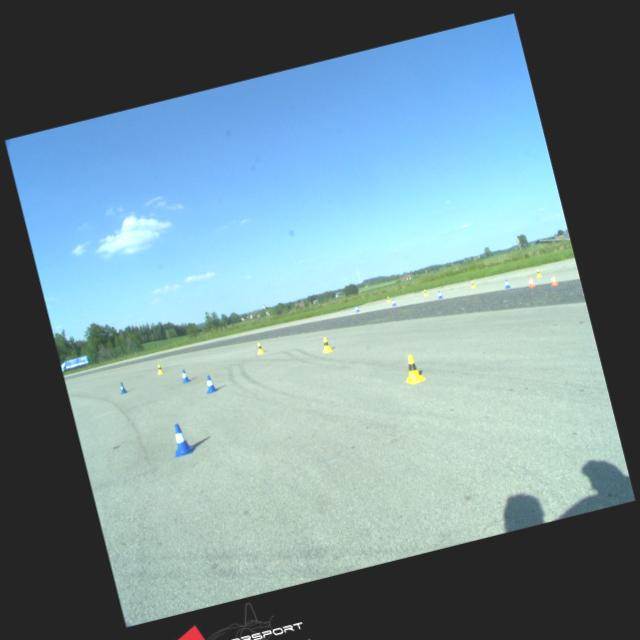blue_cone: (168, 421, 195, 456), (203, 374, 217, 393), (116, 381, 128, 394), (179, 368, 190, 382), (502, 278, 510, 288), (436, 290, 443, 298), (354, 305, 360, 312), (391, 298, 396, 305)
orange_cone: (548, 274, 558, 286), (527, 276, 535, 287)
yellow_cone: (400, 352, 426, 384), (320, 337, 332, 352), (254, 342, 264, 354), (155, 364, 163, 374), (534, 268, 542, 278), (422, 289, 428, 296), (470, 280, 474, 288), (386, 296, 390, 302)
